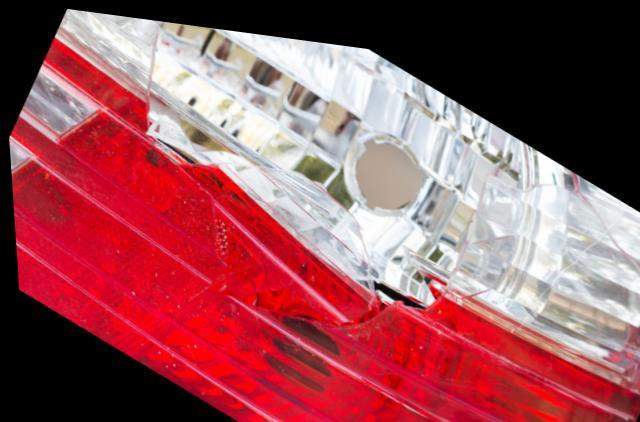lamp broken: (7, 7, 640, 422)
